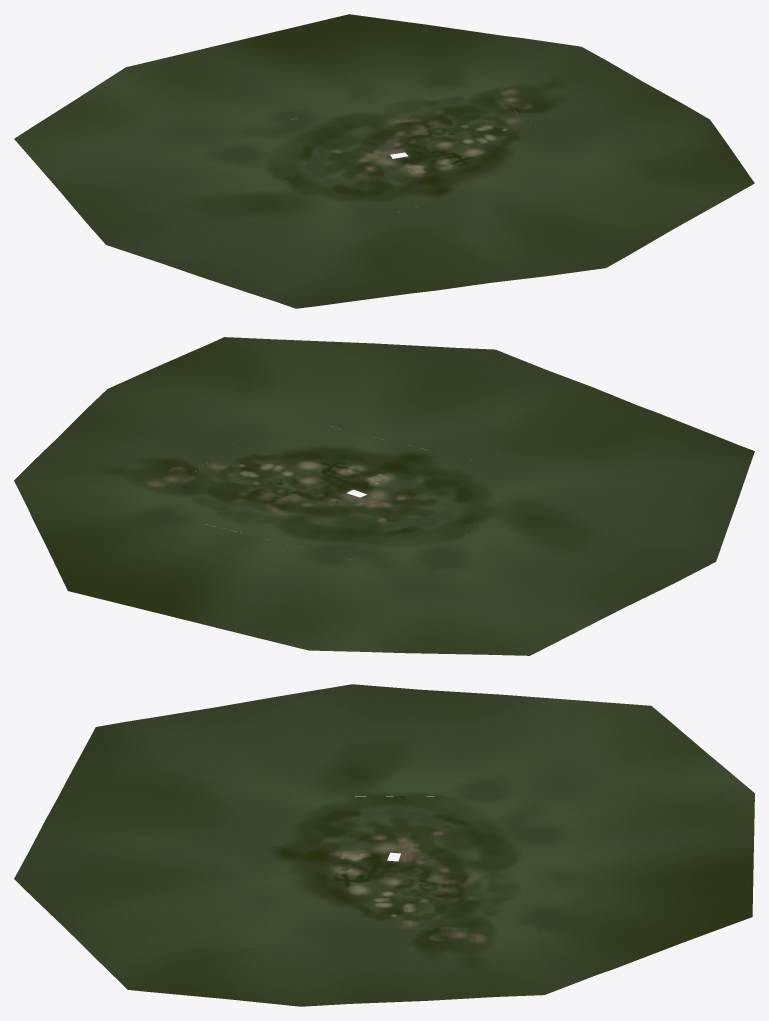
Rendered from terrain.glb.
3 views of the same model, one above another, from view 1: azimuth 30°, elevation 25°; view 2: azimuth 150°, elevation 25°; view 3: azimuth 270°, elevation 25° (orthographic). The views are drawn at different scales.
Parts seen in each view (by area): view 1: Terrain_centerNew; view 2: Terrain_centerNew; view 3: Terrain_centerNew.
Boxes of the visible parts, x1,y1,x2,y2 form: Terrain_centerNew: (14, 14, 754, 308); Terrain_centerNew: (14, 337, 754, 655); Terrain_centerNew: (14, 684, 754, 1006).
Bounding box in the file's own units: 3629 × 5.32 × 3524.
1 material, 1 textured.
